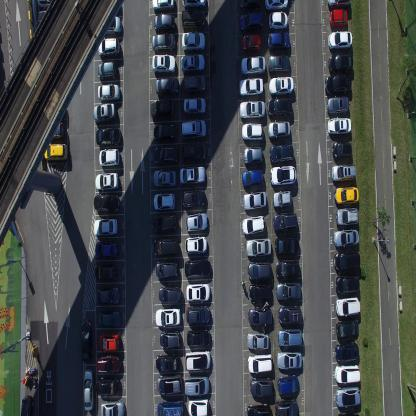car: (155, 374, 182, 396), (184, 349, 211, 371), (95, 125, 122, 147), (239, 10, 263, 34), (152, 212, 177, 235), (153, 236, 178, 259), (268, 75, 294, 97), (240, 54, 266, 76), (324, 74, 350, 96), (334, 250, 360, 272), (335, 296, 361, 318), (336, 386, 362, 408), (183, 256, 210, 277), (246, 353, 273, 374), (180, 119, 207, 140), (274, 211, 298, 234), (156, 74, 180, 97), (95, 354, 120, 376), (276, 304, 301, 326), (270, 164, 295, 186), (181, 186, 206, 208), (149, 99, 174, 121), (335, 274, 360, 296), (273, 260, 299, 281), (239, 100, 265, 121), (238, 76, 264, 97), (154, 306, 181, 326), (183, 376, 210, 396), (245, 238, 272, 258), (334, 364, 361, 384), (95, 285, 119, 307), (181, 8, 205, 30), (326, 96, 350, 118), (185, 304, 210, 325), (181, 31, 206, 52), (328, 30, 353, 51), (179, 165, 205, 185), (151, 168, 177, 188), (328, 53, 354, 73), (333, 228, 359, 248), (80, 320, 92, 363), (243, 190, 266, 212), (184, 212, 208, 233), (246, 260, 270, 281), (269, 143, 293, 164), (98, 15, 122, 36), (92, 102, 116, 123), (93, 194, 121, 212), (267, 120, 291, 141), (268, 97, 292, 118), (276, 350, 301, 370), (185, 282, 210, 302), (181, 141, 206, 161), (93, 216, 118, 236), (334, 185, 360, 204), (268, 53, 290, 75), (153, 12, 175, 34), (249, 377, 272, 398), (248, 306, 271, 327), (94, 262, 117, 283), (42, 119, 65, 140), (97, 37, 120, 58), (155, 353, 179, 373), (274, 236, 298, 256), (97, 83, 121, 103), (182, 75, 206, 95), (336, 320, 360, 340), (242, 216, 266, 236), (43, 142, 68, 161), (151, 54, 176, 73), (95, 378, 121, 396), (152, 124, 178, 142), (158, 328, 180, 349), (336, 206, 358, 227), (155, 259, 178, 279), (247, 281, 270, 301), (267, 30, 290, 50), (154, 144, 178, 163), (335, 342, 359, 361), (276, 328, 301, 346), (275, 282, 300, 300), (94, 172, 119, 190), (327, 117, 352, 135), (330, 164, 355, 182), (274, 398, 299, 416), (156, 400, 184, 416), (99, 146, 120, 167), (153, 192, 175, 212), (97, 60, 117, 82), (241, 32, 261, 54), (268, 10, 288, 32), (98, 333, 121, 352), (184, 235, 207, 254), (158, 285, 181, 304), (186, 328, 210, 346), (97, 310, 121, 328), (152, 33, 176, 51), (181, 54, 205, 72), (277, 375, 298, 395), (83, 370, 93, 412), (242, 146, 263, 166), (272, 189, 292, 210), (241, 168, 263, 187), (242, 122, 264, 141), (95, 242, 118, 260), (246, 332, 269, 350), (183, 96, 206, 114), (186, 397, 208, 415), (330, 7, 348, 29), (332, 140, 352, 159), (99, 402, 124, 416), (246, 403, 272, 415), (20, 392, 33, 415), (152, 0, 174, 12), (264, 0, 288, 11), (181, 0, 207, 9), (238, 0, 262, 9), (37, 0, 56, 11), (327, 0, 350, 8), (337, 411, 360, 415)
